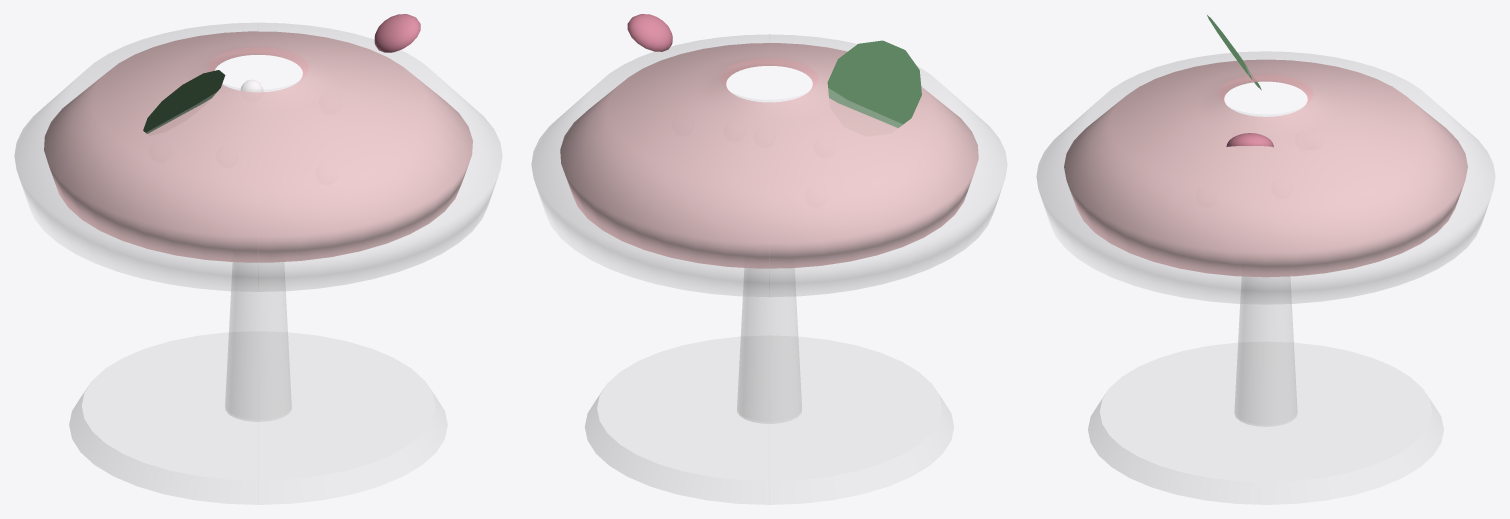
File: maison-elyse-n1.glb
3 views of the same model, side by side, from view 1: azimuth 30°, elevation 25°; view 2: azimuth 150°, elevation 25°; view 3: azimuth 270°, elevation 25° (orthographic). The views are drawn at different scales.
Bounding box in the file's own units: 0.14 × 0.1249 × 0.14.
